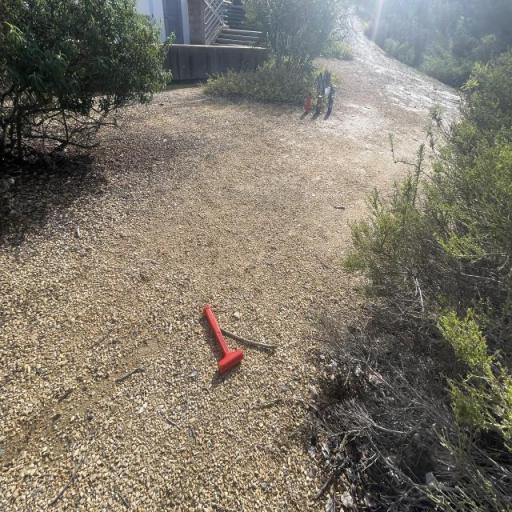bottle: (305, 91, 312, 114), (327, 94, 335, 114), (316, 92, 323, 114), (324, 86, 330, 98), (330, 86, 337, 96)
mallet: (202, 304, 244, 376)
